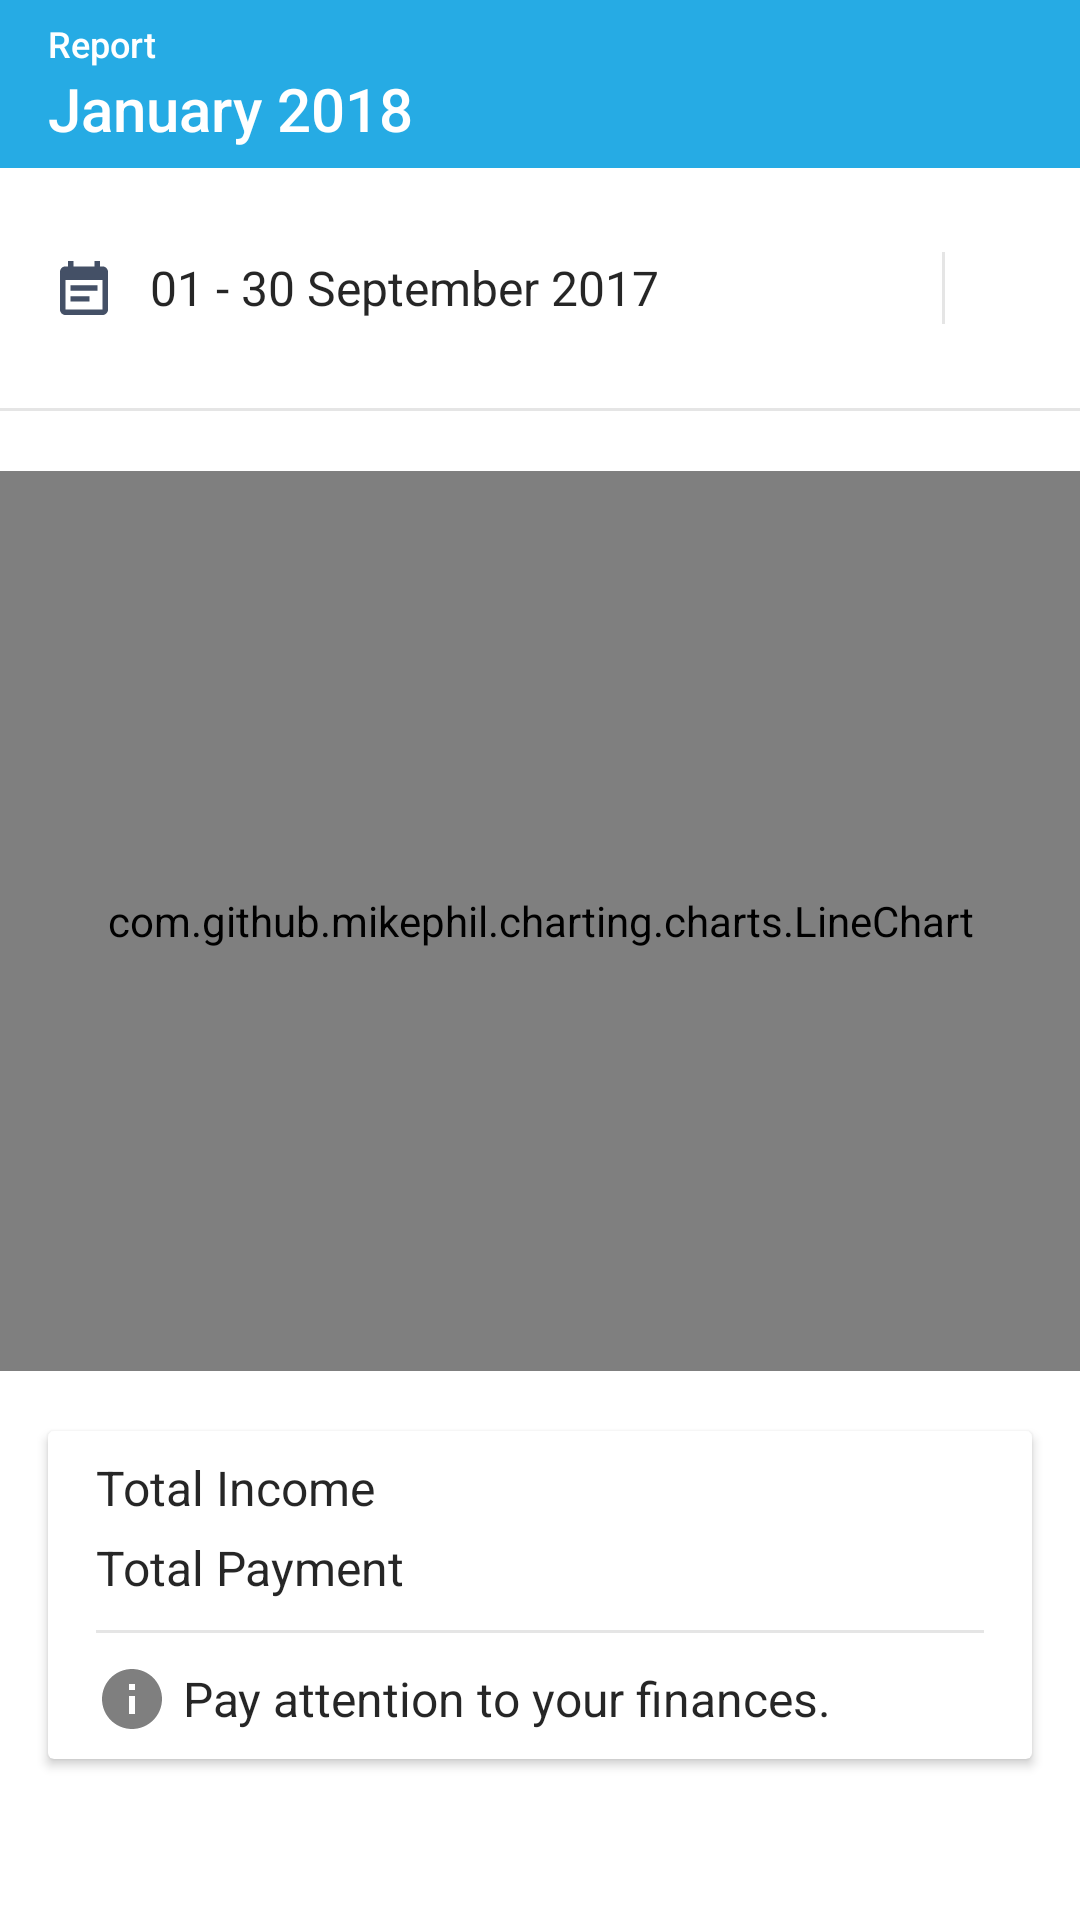

Where to tap for icons on this 1080x1920 app screen, as [x,y]:
calendar week: [84,288]
